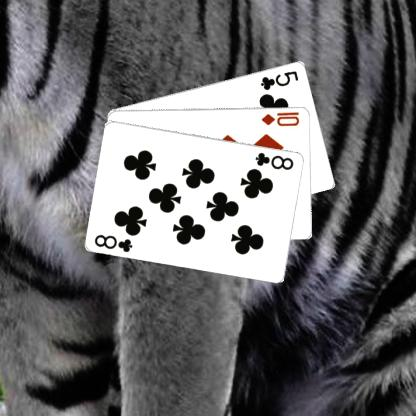10D: (259, 108, 301, 126)
5C: (258, 68, 300, 91)
8C: (92, 232, 134, 254), (253, 150, 295, 171)
